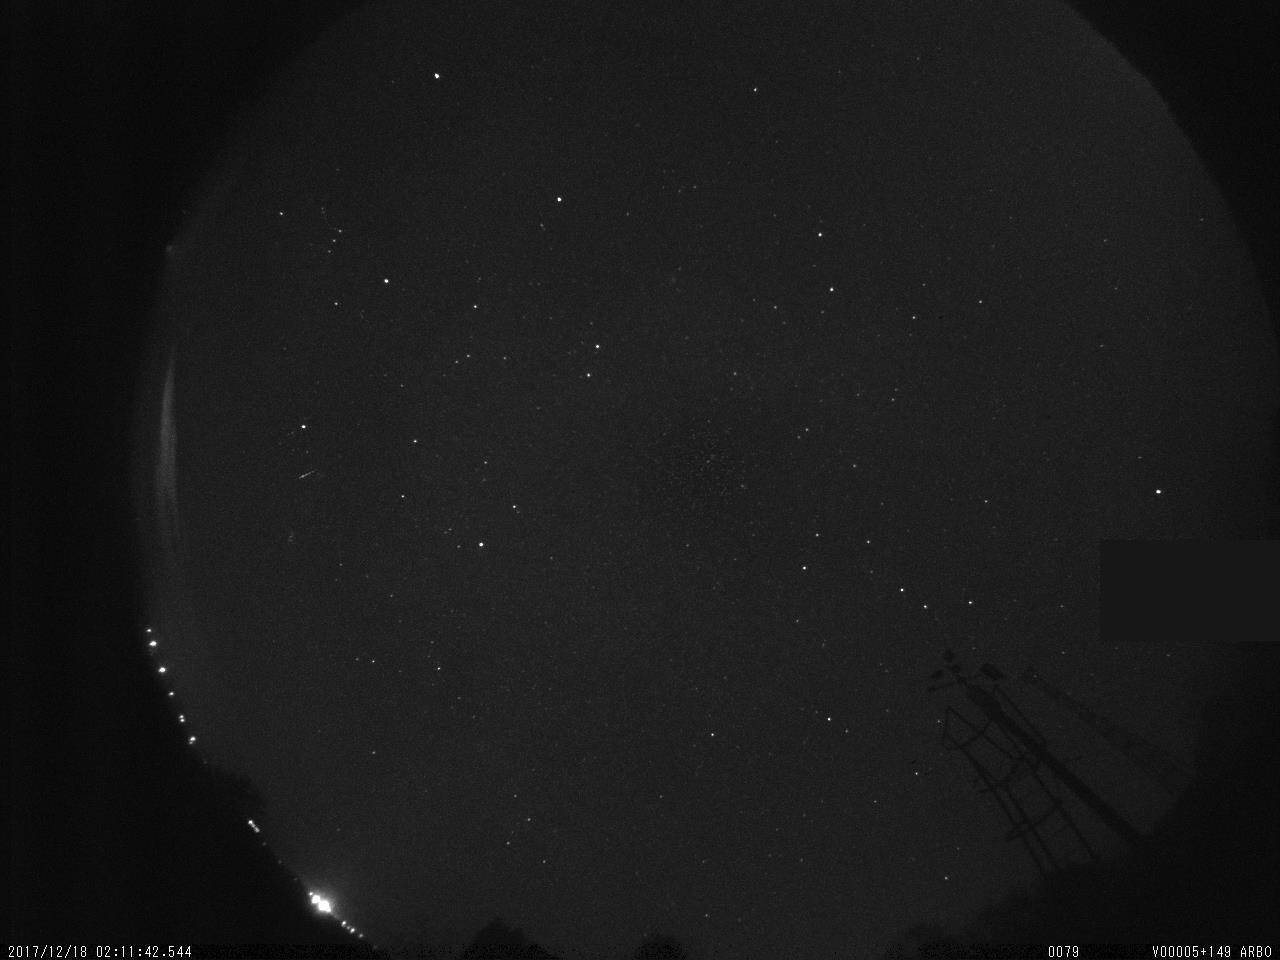meteor: (289, 465, 324, 487)
